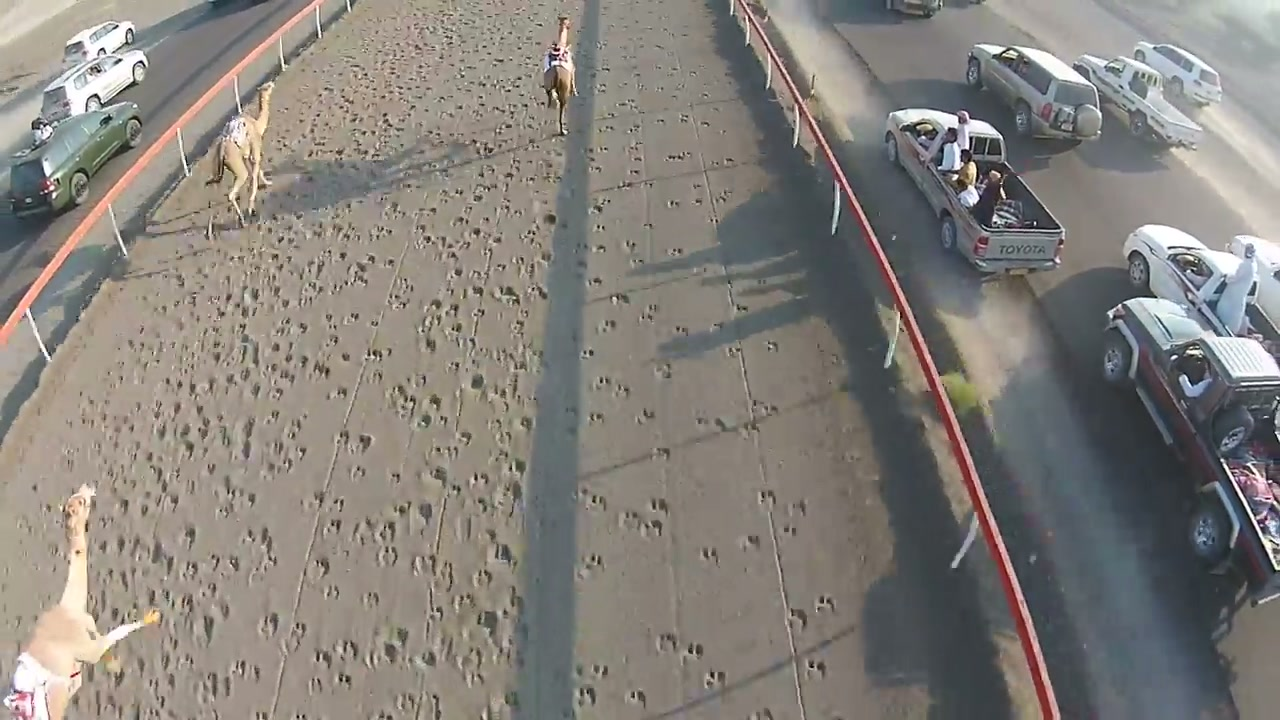animal_foot_print: (108, 144, 360, 713), (393, 102, 571, 697)
